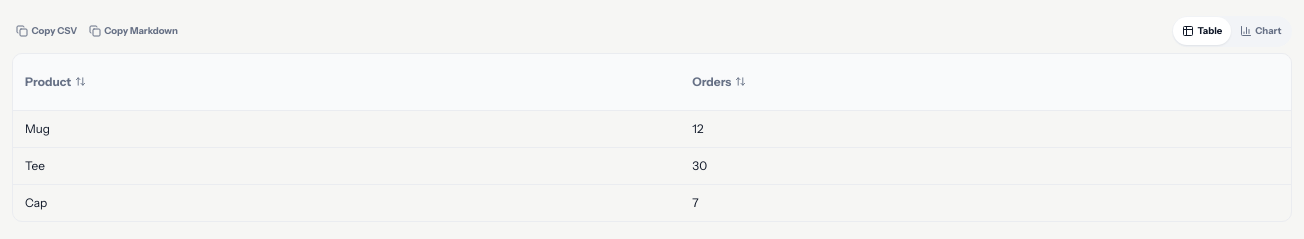
Test: table chart view › offers a Table / Chart switch for a chartable table and keeps the table by default
This screenshot has width=1304, height=239.
Step 1. Click the button "Chart" → [1261, 31], box [1231, 17, 1290, 45]
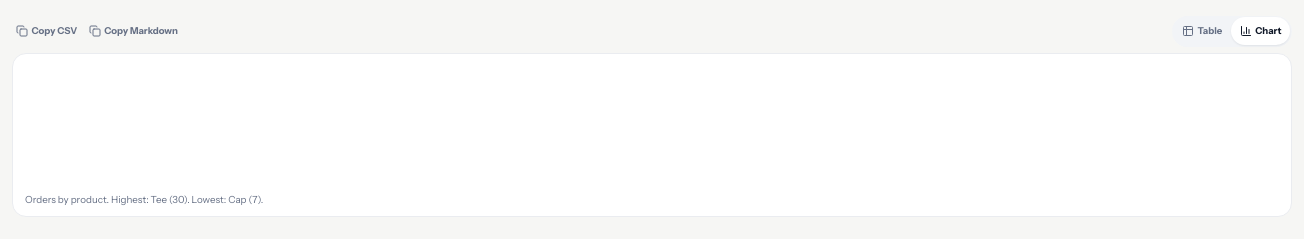
Expected: the text "Orders by product. Highest: Tee (30). Lowest: Cap (7)." is shown, [25, 192, 263, 204]
Expected: the table is gone
Step 2. Click the button "Table" → [1202, 31], box [1173, 17, 1231, 45]
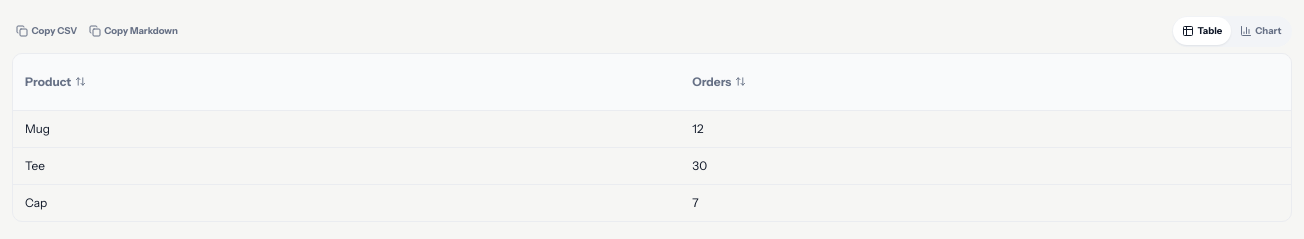
Expected: the table is shown
